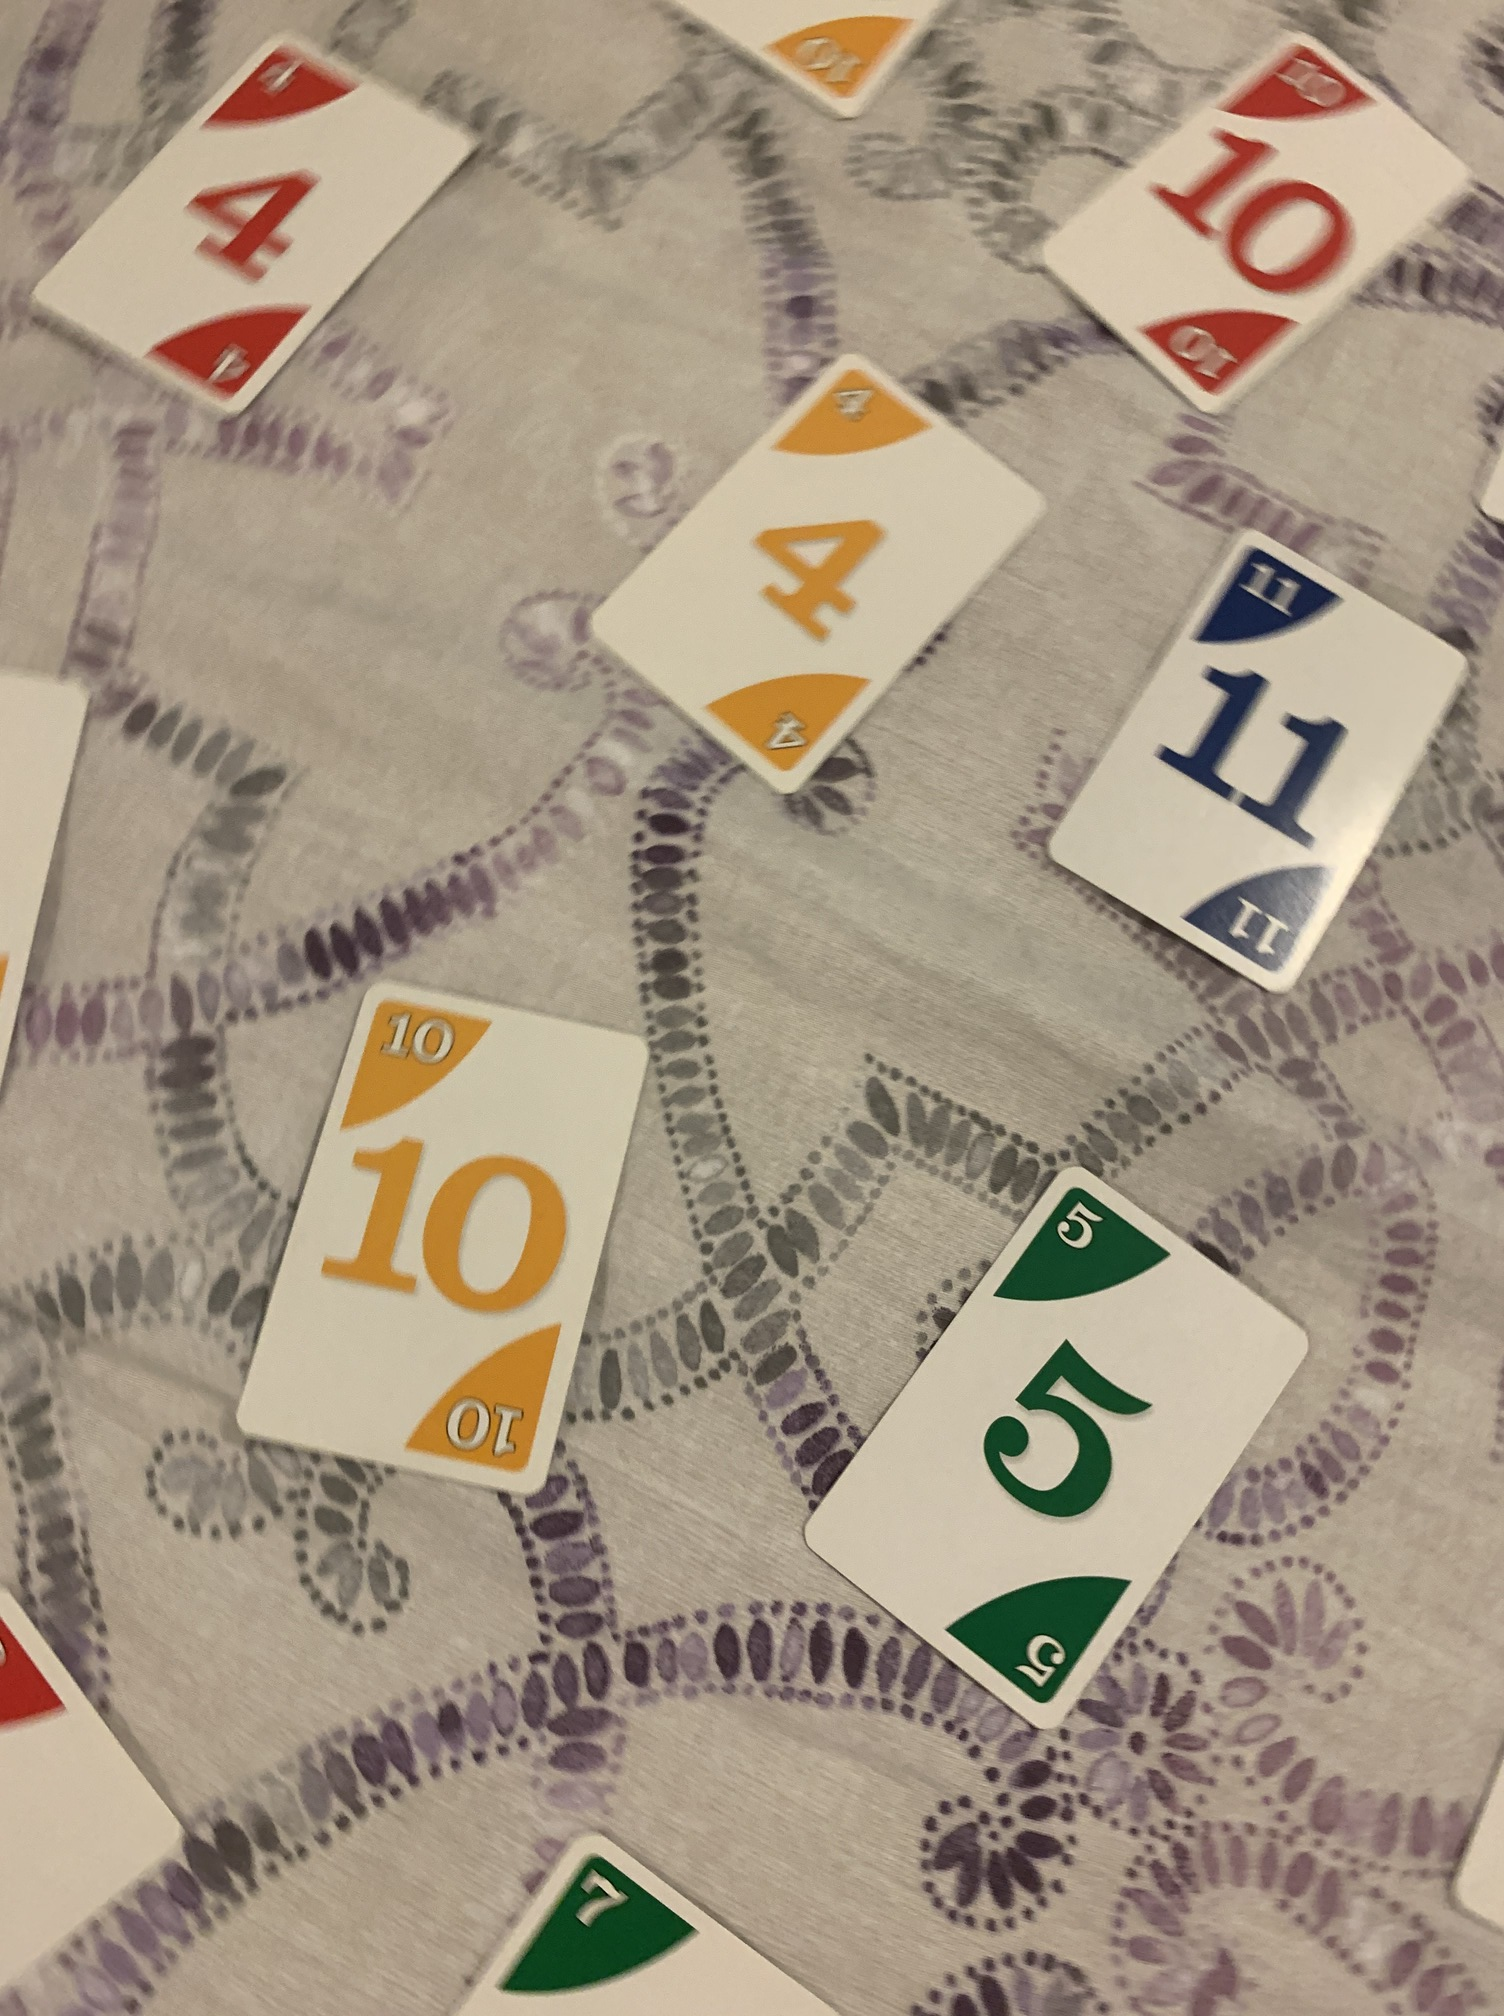eleven: (1027, 520, 1468, 1010)
five: (796, 1168, 1318, 1732)
four: (583, 360, 1043, 795), (32, 28, 480, 422)
ten: (221, 973, 665, 1512), (1032, 24, 1480, 428)
